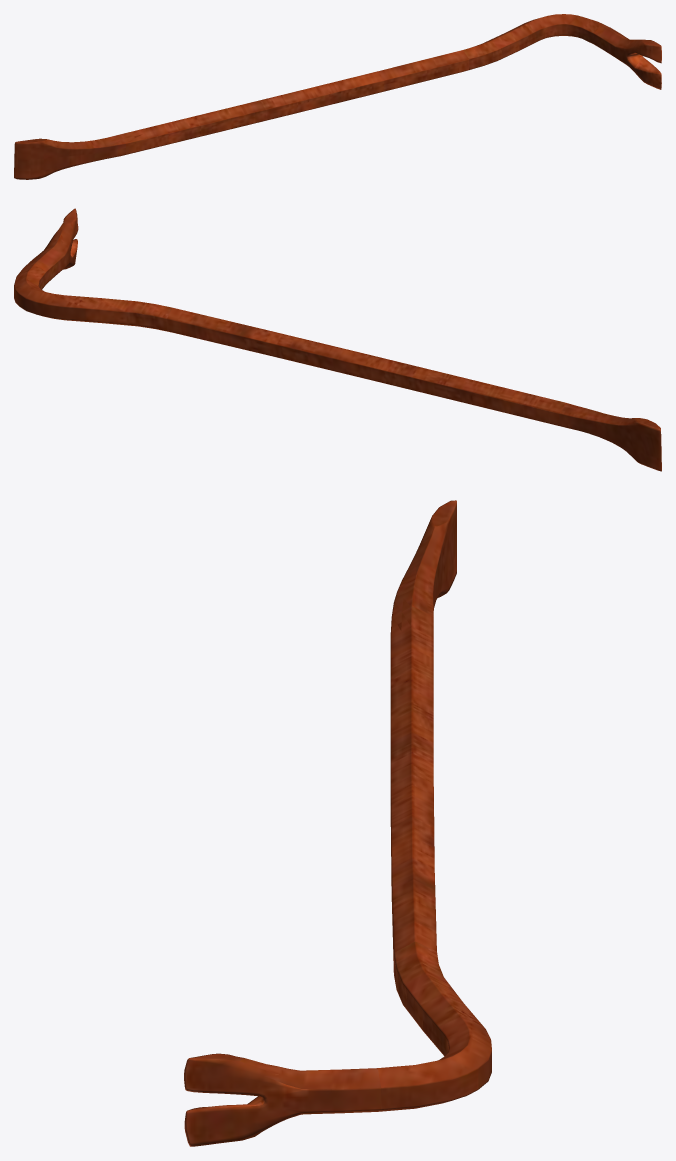
File: crowbar.glb
3 views of the same model, one above another, from view 1: azimuth 30°, elevation 25°; view 2: azimuth 150°, elevation 25°; view 3: azimuth 270°, elevation 25° (orthographic). The views are drawn at different scales.
Parts seen in each view (by area): view 1: crowbar; view 2: crowbar; view 3: crowbar.
Part boxes in pixels (x1,y1,x2,y2): crowbar: (14, 14, 661, 179); crowbar: (14, 208, 661, 471); crowbar: (184, 500, 491, 1146).
Size of the model in its own units: 0.62 by 0.0451 by 0.1424.
1 material, 1 textured.
